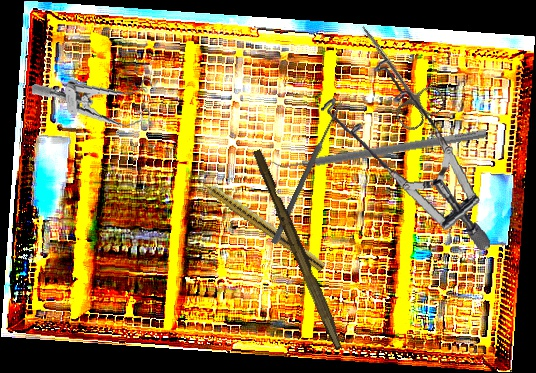Handpiece: (192, 171, 328, 273)
Iris Scissors: (340, 12, 450, 135)
Scalpel Handle: (247, 148, 350, 351)
Spatula Surgical: (269, 119, 488, 176)
Speculum: (316, 50, 491, 266), (31, 69, 163, 139)
Surgical Spoon: (271, 99, 344, 246)
